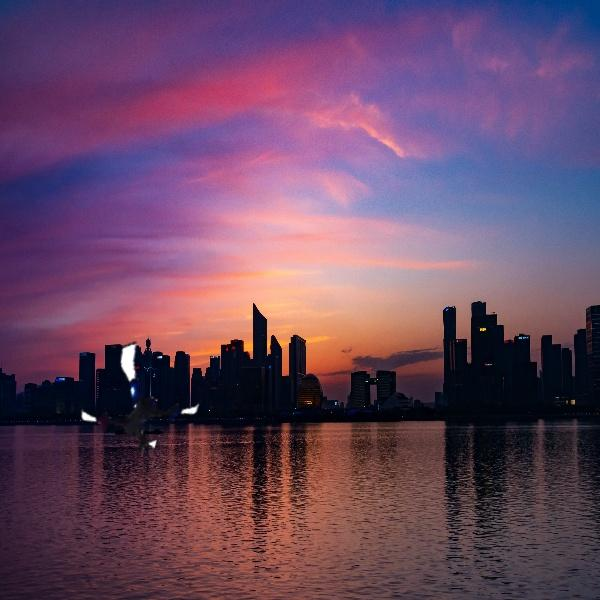drone: (82, 332, 209, 459)
